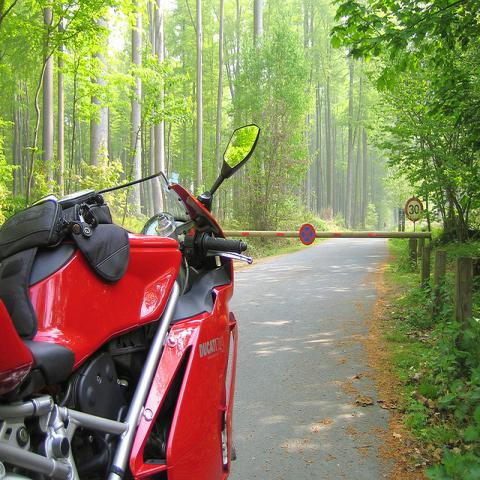motorcycle: (0, 124, 263, 480)
